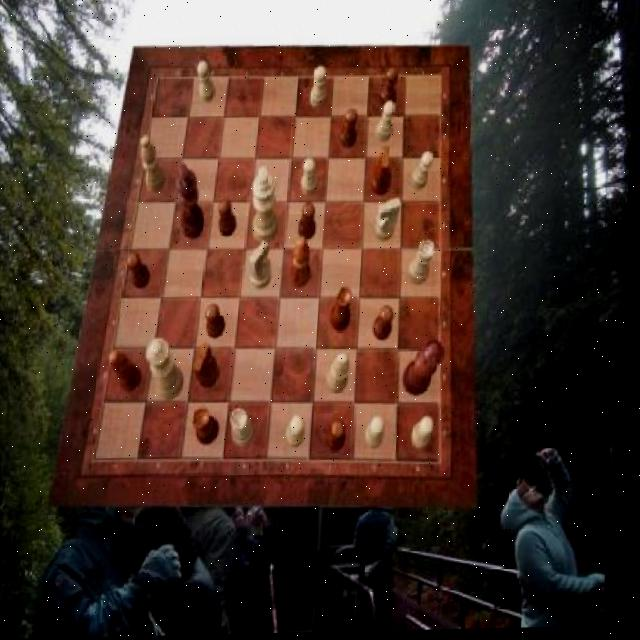bishop: (112, 351, 147, 394), (292, 239, 315, 292)
black-bishop: (175, 165, 209, 241)
black-king: (196, 344, 225, 390), (372, 146, 394, 198)
black-knight: (128, 253, 154, 289), (376, 308, 398, 343), (207, 305, 229, 340), (220, 200, 240, 238), (340, 111, 359, 151), (380, 70, 399, 110), (300, 204, 320, 241), (331, 421, 353, 454)
black-pawn: (406, 341, 448, 398)
black-queen: (196, 408, 226, 447), (333, 287, 356, 333)
black-rook: (139, 136, 169, 194), (329, 355, 354, 395)
white-bishop: (252, 167, 283, 245)
white-king: (251, 241, 276, 291), (376, 201, 403, 243)
white-knight: (195, 61, 217, 103), (375, 102, 396, 144), (413, 154, 435, 192), (310, 68, 329, 110), (416, 418, 439, 452), (370, 417, 391, 452), (303, 159, 322, 197), (290, 417, 311, 450)
white-pawn: (147, 338, 190, 401)
white-queen: (409, 243, 437, 287), (233, 409, 259, 448)
